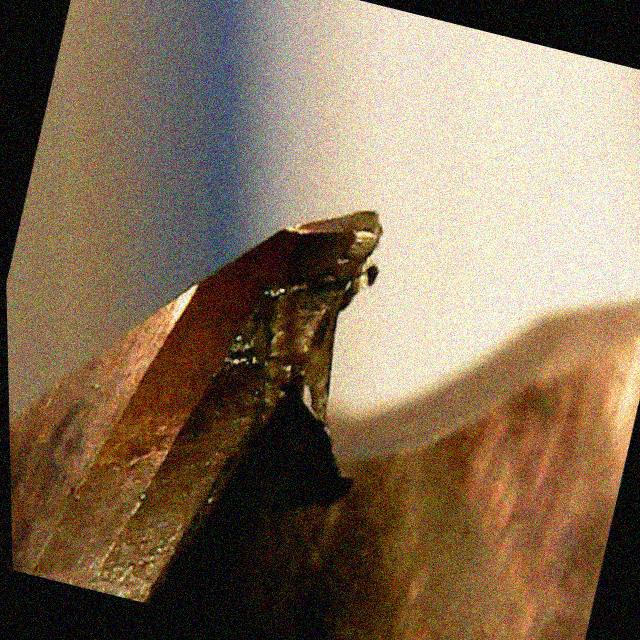Tool-wear-class-3: (127, 124, 418, 458)
